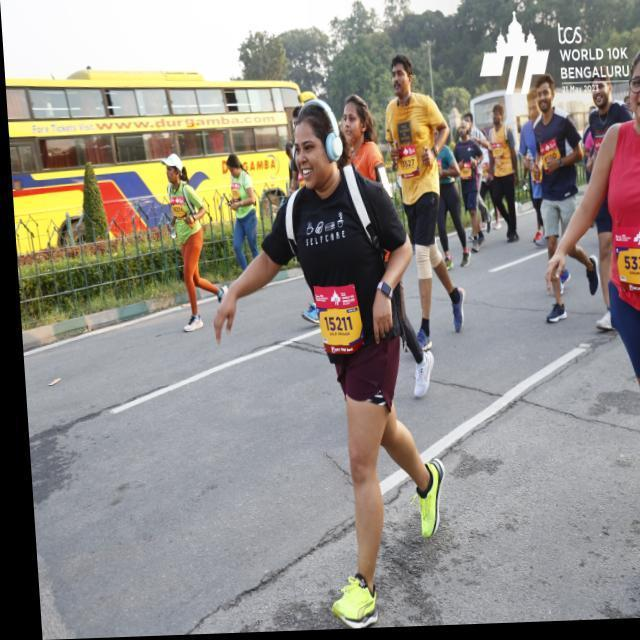dorsal: (309, 286, 361, 357), (610, 230, 640, 299), (394, 146, 419, 184), (166, 196, 184, 218)
